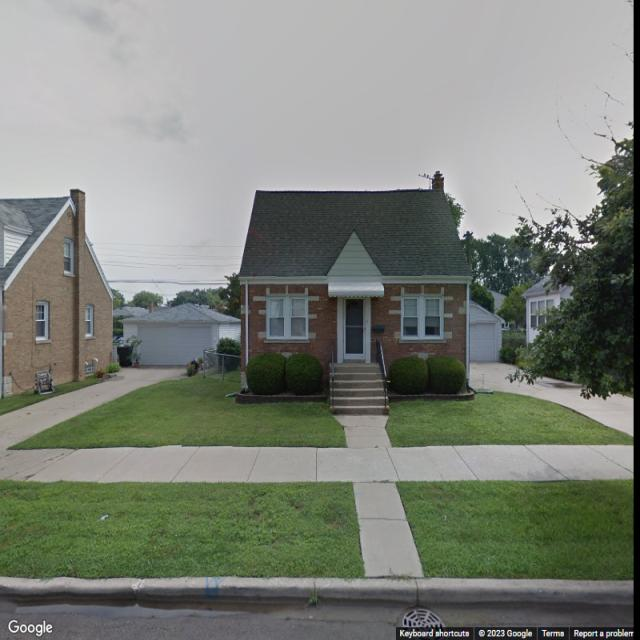House: (242, 191, 471, 400), (0, 191, 118, 402), (124, 303, 240, 371), (523, 275, 569, 347)
